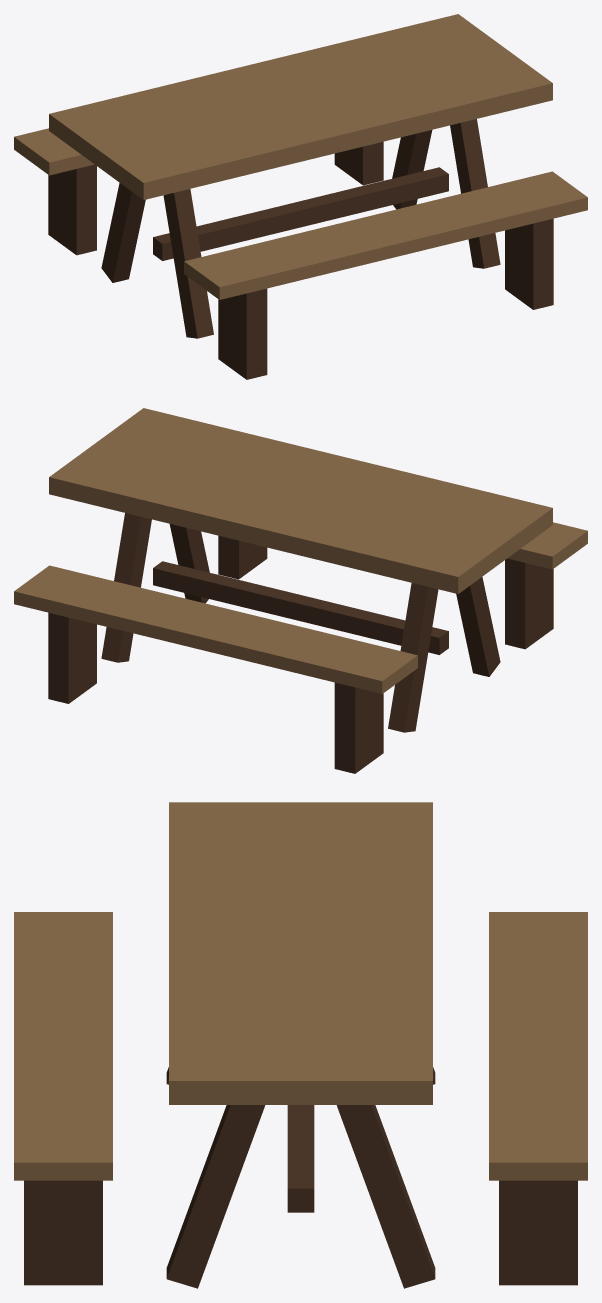
Rendered from table_bench_lod0.glb.
3 views of the same model, one above another, from view 1: azimuth 30°, elevation 25°; view 2: azimuth 150°, elevation 25°; view 3: azimuth 270°, elevation 25° (orthographic). The views are drawn at different scales.
Parts seen in each view (by area): view 1: table_bench; view 2: table_bench; view 3: table_bench.
Part boxes in pixels (<box>): table_bench: <box>14,14,587,379</box>; table_bench: <box>14,408,587,773</box>; table_bench: <box>14,802,587,1288</box>.
Size of the model in its own units: 2 by 0.8158 by 1.74.
